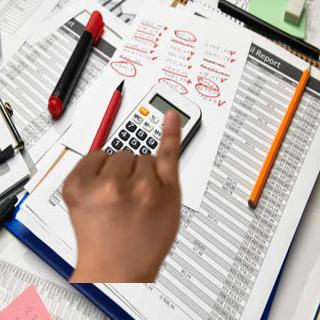FINE: (55, 104, 188, 275)
